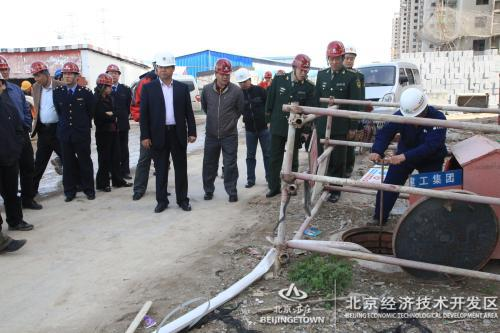helmet: (400, 84, 432, 128), (324, 38, 350, 70), (231, 65, 256, 94), (210, 56, 232, 87), (290, 51, 312, 81), (154, 52, 179, 78), (30, 58, 52, 85), (60, 60, 80, 89), (342, 43, 359, 73), (96, 73, 114, 97), (107, 63, 122, 84), (1, 55, 12, 83), (263, 68, 275, 86)
